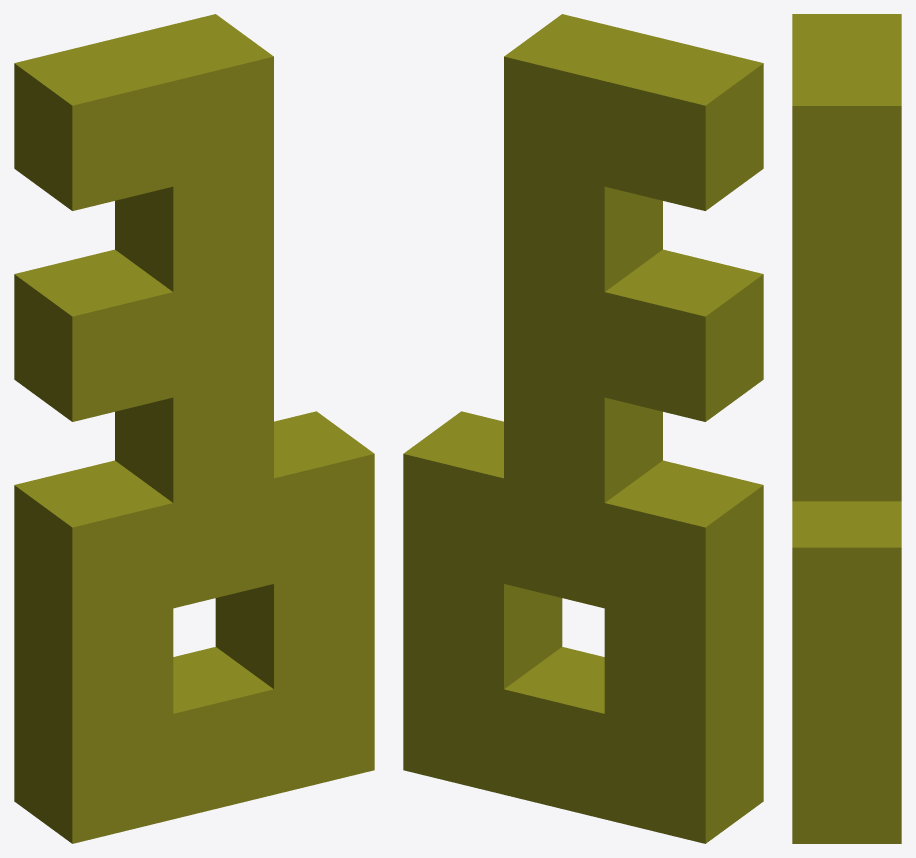
File: Key.obj
3 views of the same model, side by side, from view 1: azimuth 30°, elevation 25°; view 2: azimuth 150°, elevation 25°; view 3: azimuth 270°, elevation 25° (orthographic). The views are drawn at different scales.
Bounding box in the file's own units: 0.3 × 0.7 × 0.1.
1 material, 1 textured.
